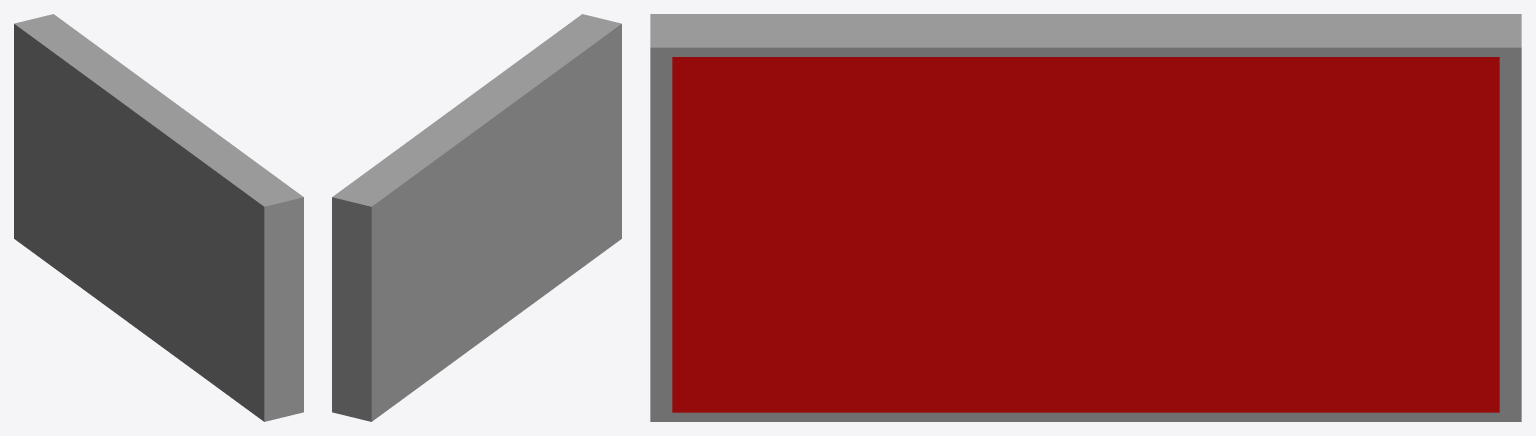
The model's file is painting_4.fbx.
3 views of the same model, side by side, from view 1: azimuth 30°, elevation 25°; view 2: azimuth 150°, elevation 25°; view 3: azimuth 270°, elevation 25° (orthographic). The views are drawn at different scales.
Visible parts, largest first — view 1: pCube2; view 2: pCube2; view 3: pCube2.
Part boxes in pixels (x1,y1,x2,y2): pCube2: (14, 14, 303, 421); pCube2: (332, 14, 621, 421); pCube2: (650, 14, 1521, 421).
Size of the model in its own units: 0.5778 by 3.01 by 6.34.
